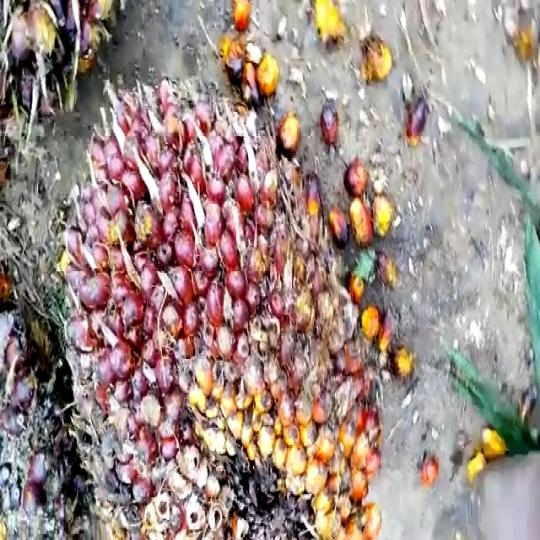kurang masak: (67, 84, 384, 540)
